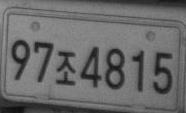1: (130, 50, 150, 91)
4: (79, 46, 102, 87)
5: (152, 52, 173, 94)
7: (33, 41, 54, 82)
8: (104, 47, 125, 90)
9: (10, 39, 31, 81)
조: (56, 50, 77, 85)
